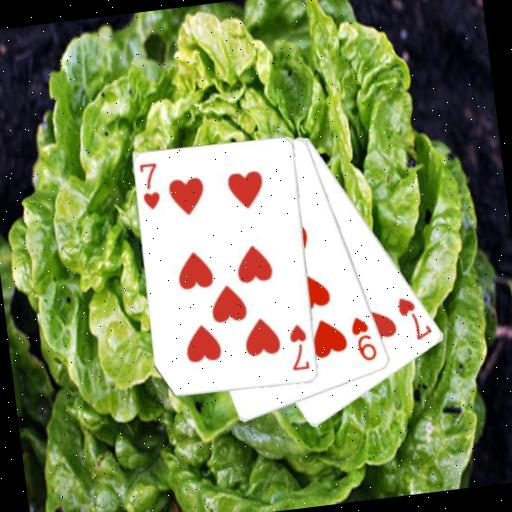7H: (393, 291, 435, 345), (285, 321, 313, 374), (136, 159, 164, 212)
9H: (347, 312, 380, 365)
